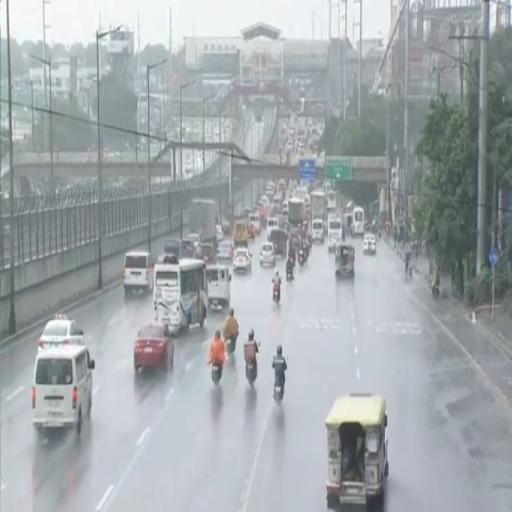bus: (153, 258, 208, 331), (328, 216, 342, 251), (352, 206, 364, 236), (327, 190, 336, 214)
car: (32, 345, 95, 435), (134, 324, 174, 372), (38, 315, 84, 349), (124, 251, 153, 294), (233, 248, 251, 271), (195, 244, 215, 264), (217, 240, 233, 263), (260, 243, 275, 266), (363, 234, 376, 254), (187, 233, 200, 248), (216, 225, 224, 242)
jeepney: (326, 394, 388, 509), (335, 245, 354, 278), (233, 219, 248, 247)
motorcycle: (246, 360, 257, 386), (274, 376, 284, 403), (225, 335, 237, 355), (212, 361, 222, 385), (273, 283, 279, 303), (298, 249, 305, 266), (432, 284, 439, 300), (286, 266, 293, 281)
truck: (189, 199, 218, 246), (288, 198, 305, 227), (310, 190, 326, 220)
